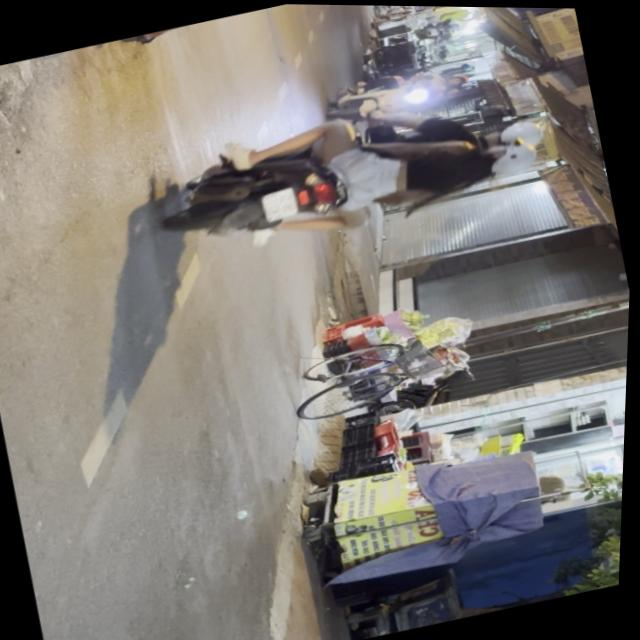helmet: (480, 115, 548, 157), (481, 138, 543, 181)
licenseplate: (143, 71, 561, 276)
nohelmet: (260, 186, 301, 224)
